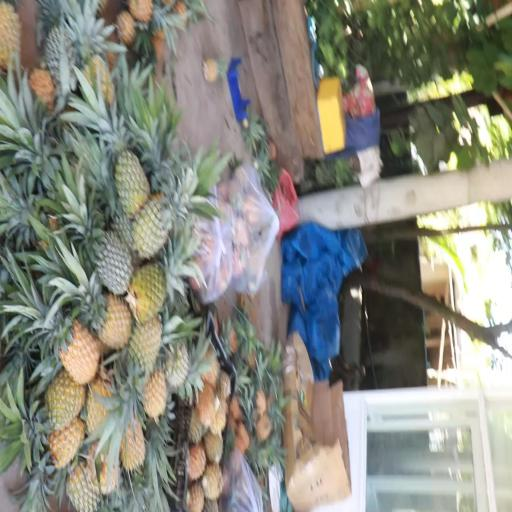------------------------------: (98, 119, 150, 210), (130, 256, 182, 321), (130, 192, 186, 252)
Pineapple - v8 v1: (44, 308, 98, 378), (78, 286, 134, 350), (34, 376, 88, 429), (123, 320, 161, 386), (44, 422, 86, 472)
